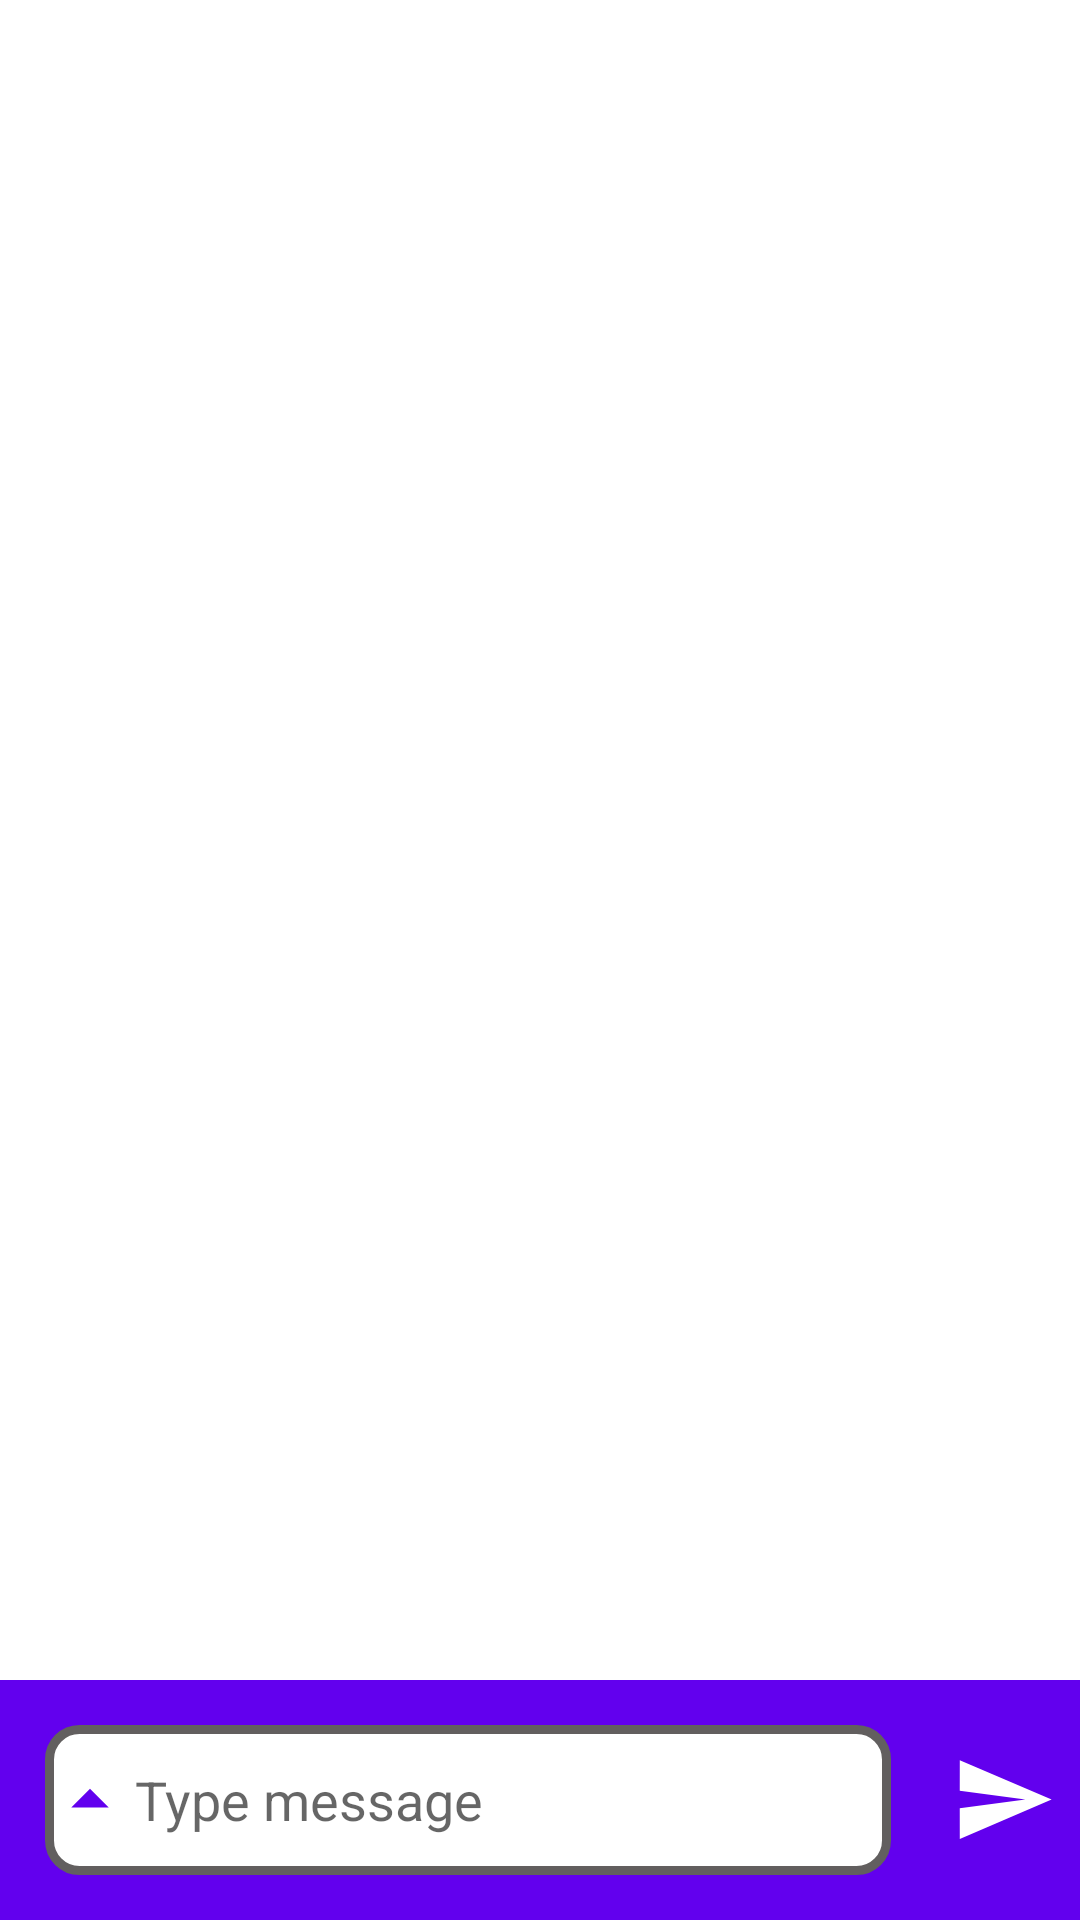

Icons on this 1080px×1920px Android screen, each with its box as region(x1, y1, x2, y2):
send: region(959, 1760, 1052, 1839)
